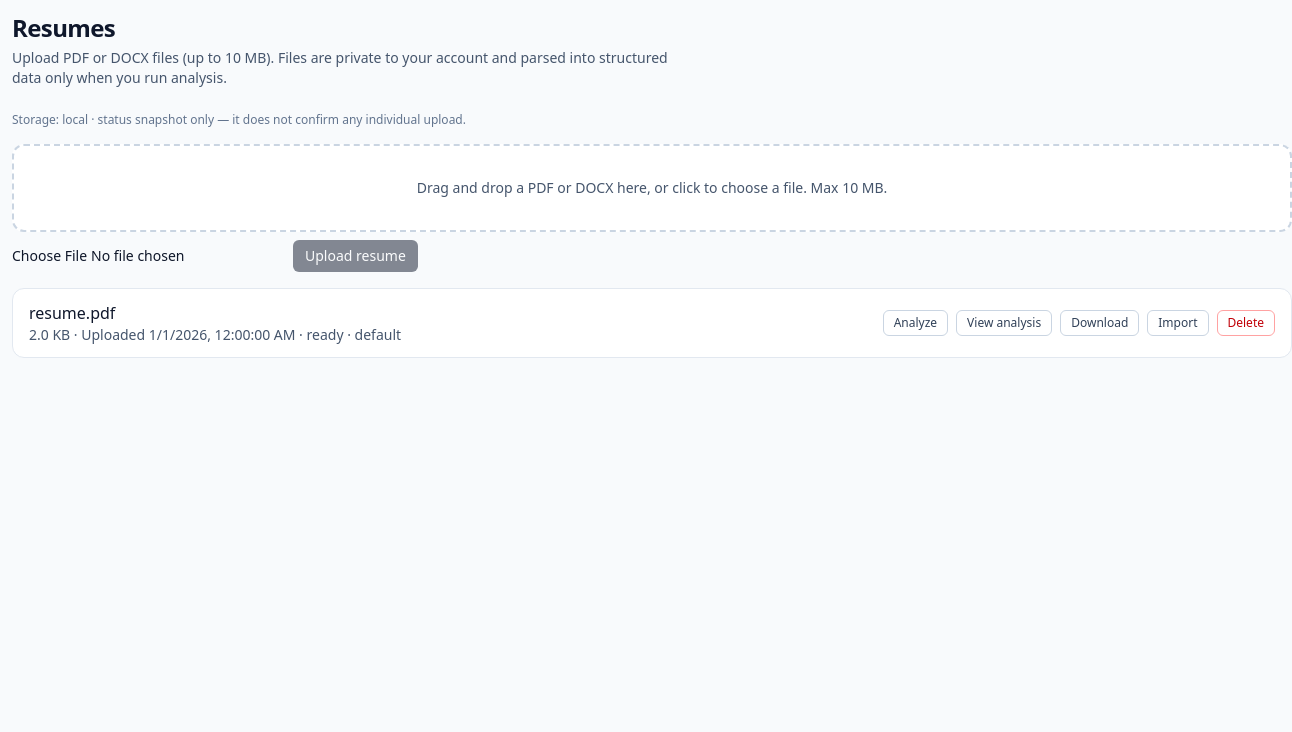
it: ResumesPage analysis › runs analysis and shows parsed skills
Check: the text "resume.pdf" is shown, box [29,302,115,324]
Click the button "Analyze" at (915, 323), box [883,310,948,336]
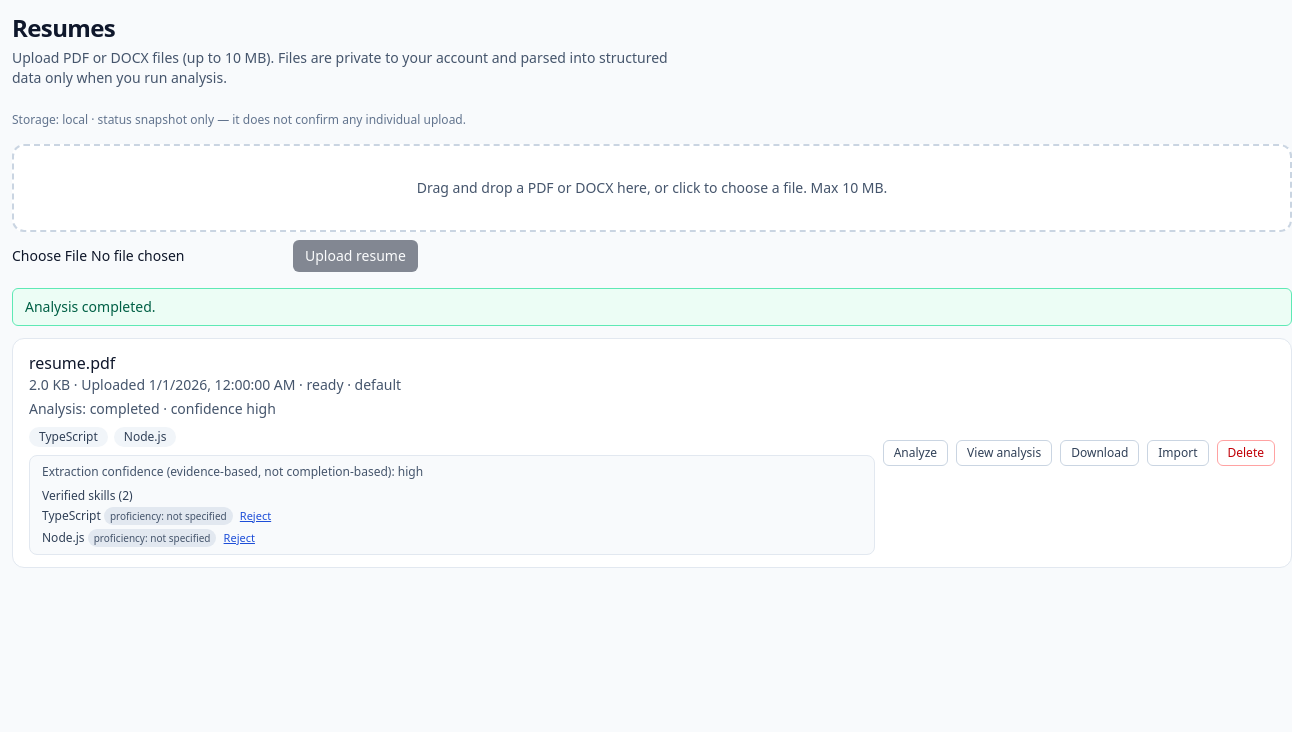
Check: the text "Analysis completed." is shown, box [12,288,1291,326]
Check: the text "Analysis: completed · confidence high" is shown, box [29,399,276,418]
Check: the list item "TypeScript" is shown, box [29,427,108,447]
